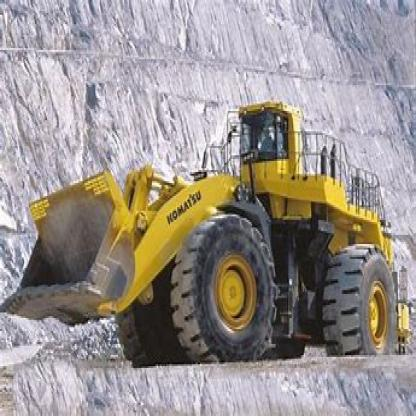bull_dozer/loader/grader: (6, 92, 405, 364)
